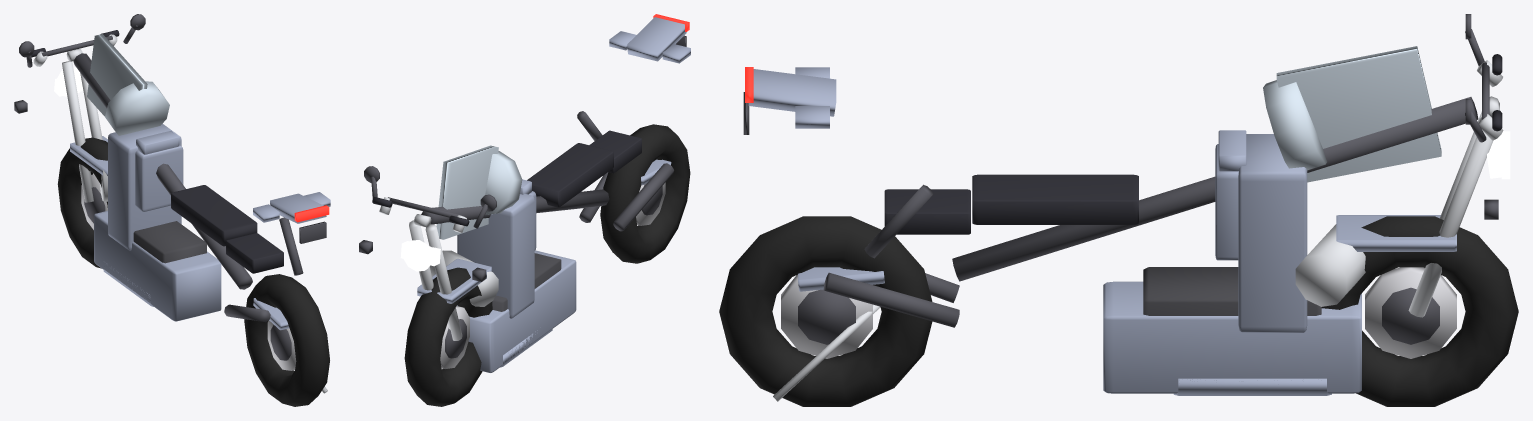
Rendered from bike_maxiscooter.glb.
3 renders of one model, left to right at view 1: azimuth 30°, elevation 25°; view 2: azimuth 150°, elevation 25°; view 3: azimuth 270°, elevation 25°, orthographic. The views are drawn at different scales.
Parts seen in each view (by area): view 1: Tire1, BellyFull, LegShield, Seat, Tire0, ShieldGlass, Screen, Tank, Engine, FrameMain, SeatRear, Fork-1 (+16 smaller); view 2: Tire1, Tire0, LegShield, BellyFull, Seat, Screen, Tail, ShieldGlass, FrameMain, Swingarm_R, SeatRear, Fork-1 (+14 smaller); view 3: Tire1, BellyFull, Tire0, LegShield, Screen, FrameMain, Seat, Engine, Rim0, EngineCyl, ShieldGlass, SeatRear (+14 smaller).
Part boxes in pixels (left/top/right/bottom): Tire1: left=244, top=274, right=329, bottom=406; BellyFull: left=94, top=211, right=221, bottom=321; LegShield: left=108, top=123, right=181, bottom=250; Seat: left=171, top=185, right=257, bottom=246; Tire0: left=57, top=137, right=107, bottom=268; ShieldGlass: left=105, top=81, right=169, bottom=135; Screen: left=87, top=34, right=147, bottom=116; Tank: left=135, top=145, right=183, bottom=211; Engine: left=133, top=221, right=206, bottom=263; FrameMain: left=73, top=53, right=252, bottom=289; SeatRear: left=226, top=233, right=283, bottom=273; Fork-1: left=62, top=61, right=93, bottom=202; Tire1: left=600, top=124, right=690, bottom=263; Tire0: left=404, top=267, right=492, bottom=406; LegShield: left=457, top=194, right=534, bottom=318; BellyFull: left=457, top=250, right=576, bottom=372; Seat: left=527, top=143, right=613, bottom=207; Screen: left=436, top=145, right=498, bottom=239; Tail: left=627, top=17, right=686, bottom=61; ShieldGlass: left=485, top=151, right=522, bottom=214; FrameMain: left=421, top=189, right=609, bottom=224; Swingarm_R: left=613, top=163, right=673, bottom=231; SeatRear: left=589, top=130, right=641, bottom=173; Fork-1: left=425, top=224, right=462, bottom=340; Tire1: left=719, top=216, right=932, bottom=406; BellyFull: left=1103, top=281, right=1361, bottom=393; Tire0: left=1321, top=216, right=1518, bottom=406; LegShield: left=1238, top=134, right=1307, bottom=332; Screen: left=1276, top=46, right=1441, bottom=182; FrameMain: left=952, top=97, right=1478, bottom=281; Seat: left=972, top=174, right=1138, bottom=224; Engine: left=1143, top=267, right=1321, bottom=315; Rim0: left=1365, top=267, right=1456, bottom=358; EngineCyl: left=1295, top=224, right=1365, bottom=306; ShieldGlass: left=1263, top=80, right=1327, bottom=170; SeatRear: left=884, top=189, right=970, bottom=234.
Size of the model in its own units: 0.7856 by 1.37 by 2.78.
